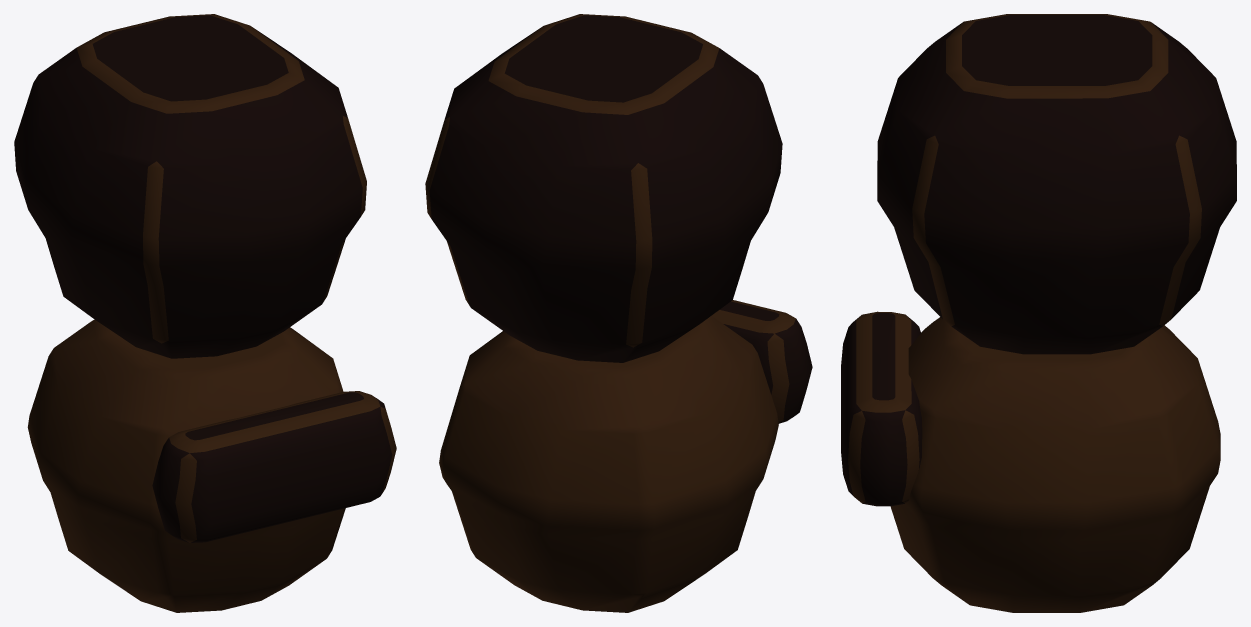
File: Arma_ManoplasCouroCru_L.fbx
3 renders of one model, left to right at view 1: azimuth 30°, elevation 25°; view 2: azimuth 150°, elevation 25°; view 3: azimuth 270°, elevation 25°, orthographic. The views are drawn at different scales.
Visible parts, largest first — view 1: Piece; view 2: Piece; view 3: Piece.
Boxes of the visible parts, bbox=[...] form: Piece: bbox=[14, 14, 396, 612]; Piece: bbox=[425, 14, 812, 612]; Piece: bbox=[841, 14, 1236, 612].
Size of the model in its own units: 0.1654 by 0.2881 by 0.1942.
